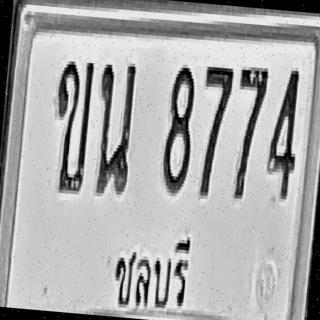A02: (48, 55, 95, 193)
A25: (91, 59, 137, 197)
N04: (264, 66, 302, 200)
N07: (195, 63, 234, 197), (230, 63, 268, 200)
N08: (159, 63, 197, 194)
P13: (105, 222, 195, 318)
